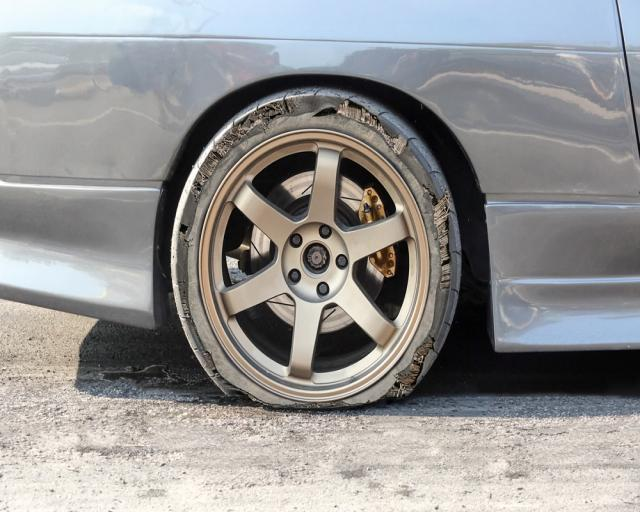tire flat: (170, 86, 462, 409)
